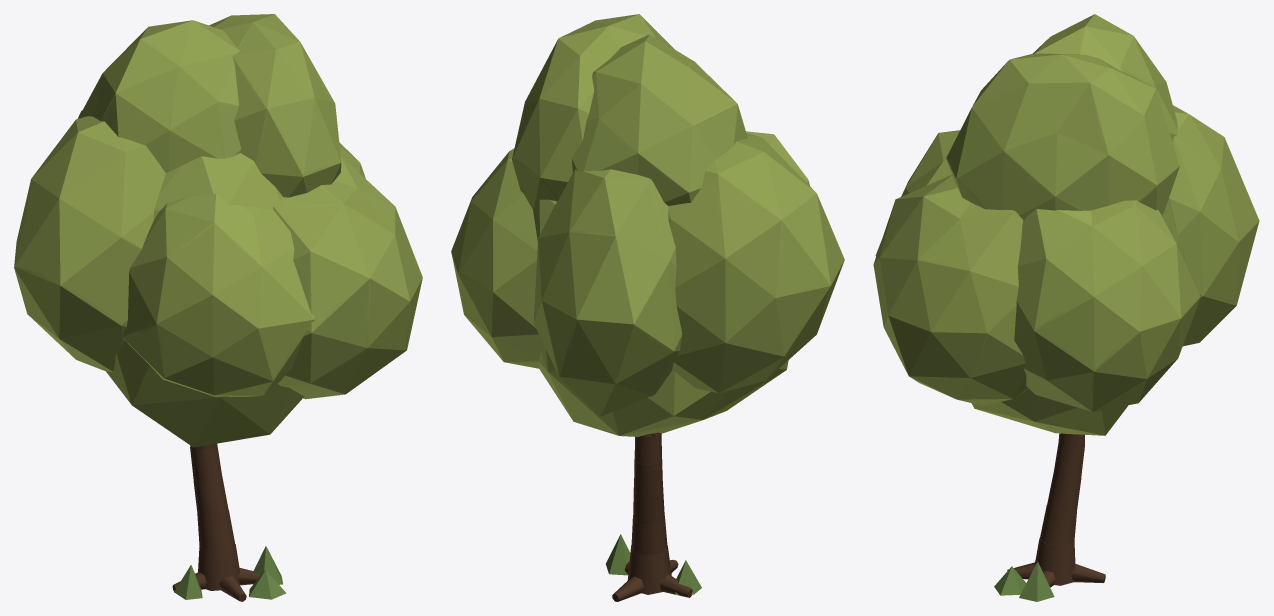
Rendered from pw_deciduous_01.glb.
3 views of the same model, side by side, from view 1: azimuth 30°, elevation 25°; view 2: azimuth 150°, elevation 25°; view 3: azimuth 270°, elevation 25° (orthographic). The views are drawn at different scales.
Visible parts, largest first — view 1: tree-batch-0, space-colonized-branches (×2), vegetation-ground-tufts-baked; view 2: tree-batch-0, space-colonized-branches (×2), vegetation-ground-tufts-baked; view 3: tree-batch-0, space-colonized-branches (×2), vegetation-ground-tufts-baked.
Boxes of the visible parts, x1,y1,x2,y2 form: tree-batch-0: [14, 14, 422, 447]; space-colonized-branches (×2): [172, 443, 258, 601]; vegetation-ground-tufts-baked: [174, 546, 286, 599]; tree-batch-0: [451, 14, 844, 436]; space-colonized-branches (×2): [612, 432, 692, 601]; vegetation-ground-tufts-baked: [606, 534, 701, 594]; tree-batch-0: [873, 14, 1259, 435]; space-colonized-branches (×2): [1007, 433, 1105, 587]; vegetation-ground-tufts-baked: [994, 561, 1054, 601].
Size of the model in its own units: 7.2 by 10.8 by 6.88.
